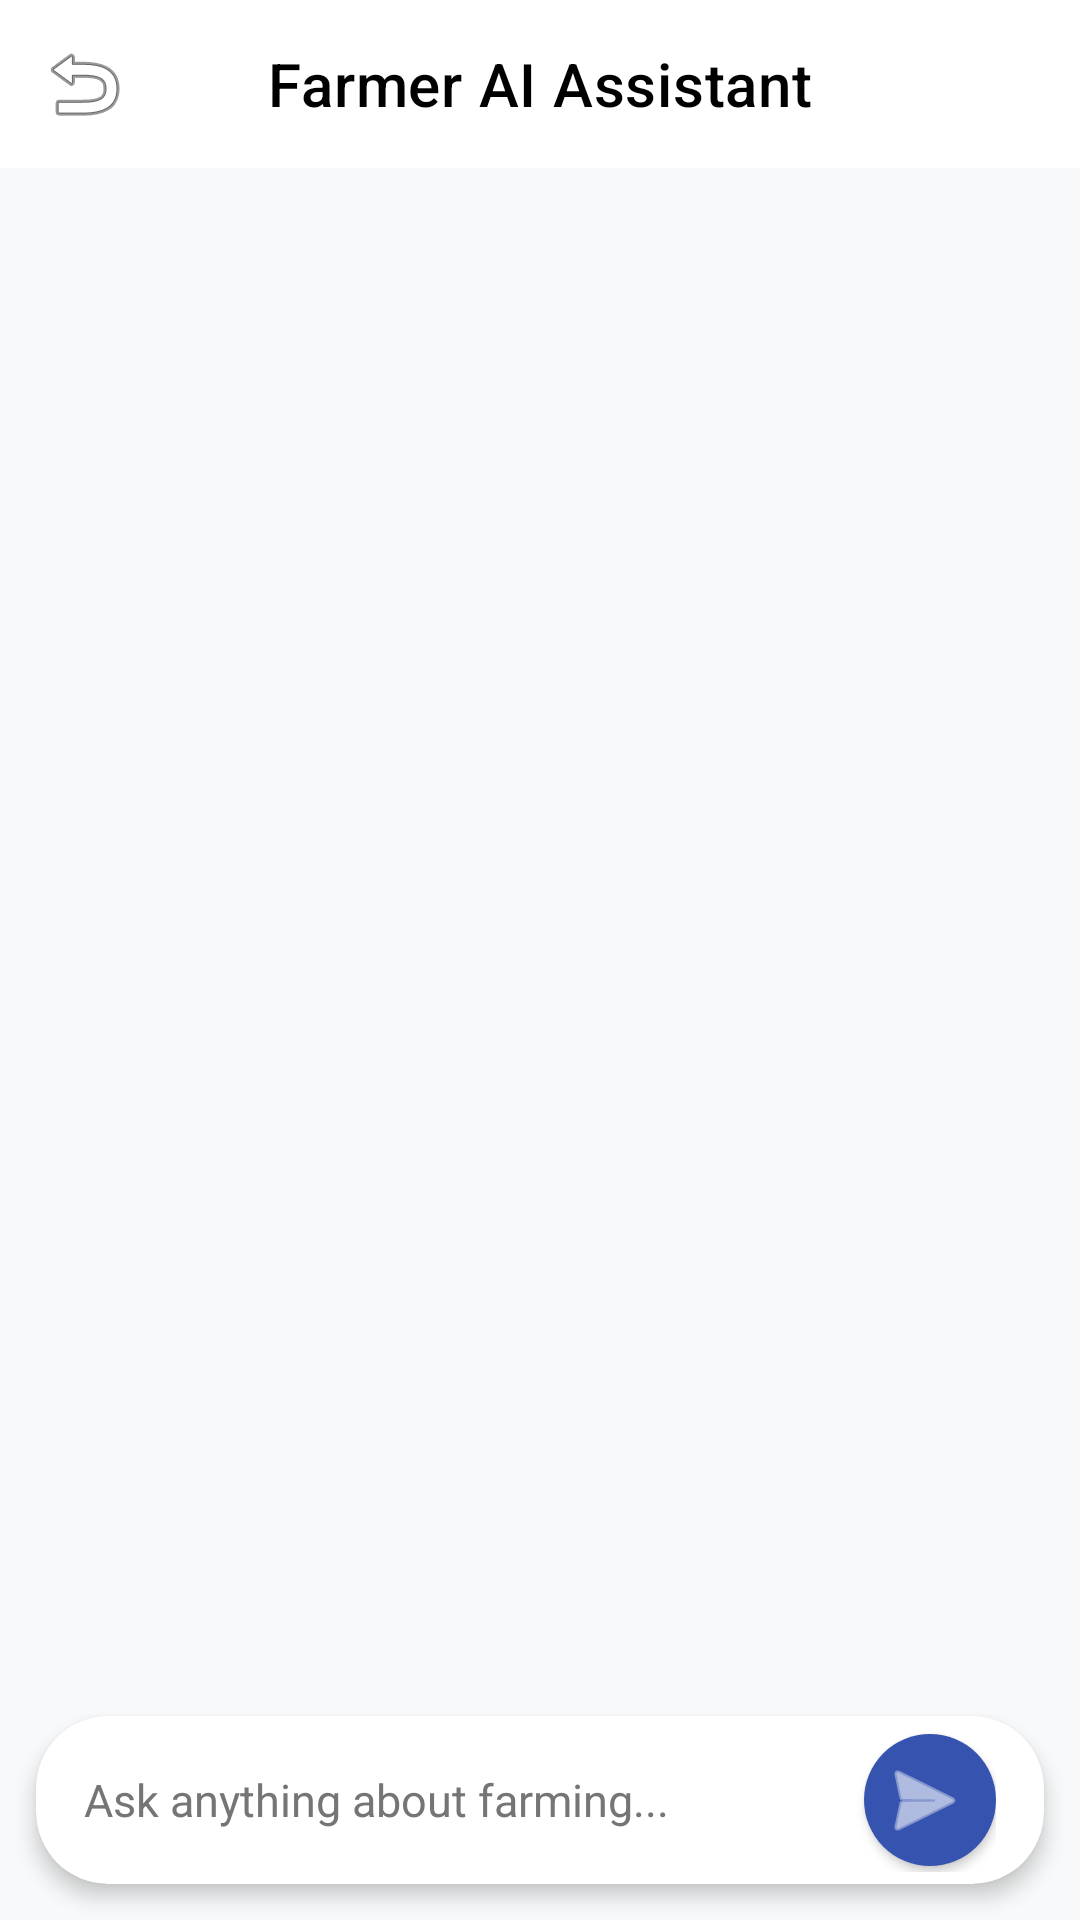

Named icons in this screenshot (1080×1920) and their centers, [x,y]:
send: [930,1800]
